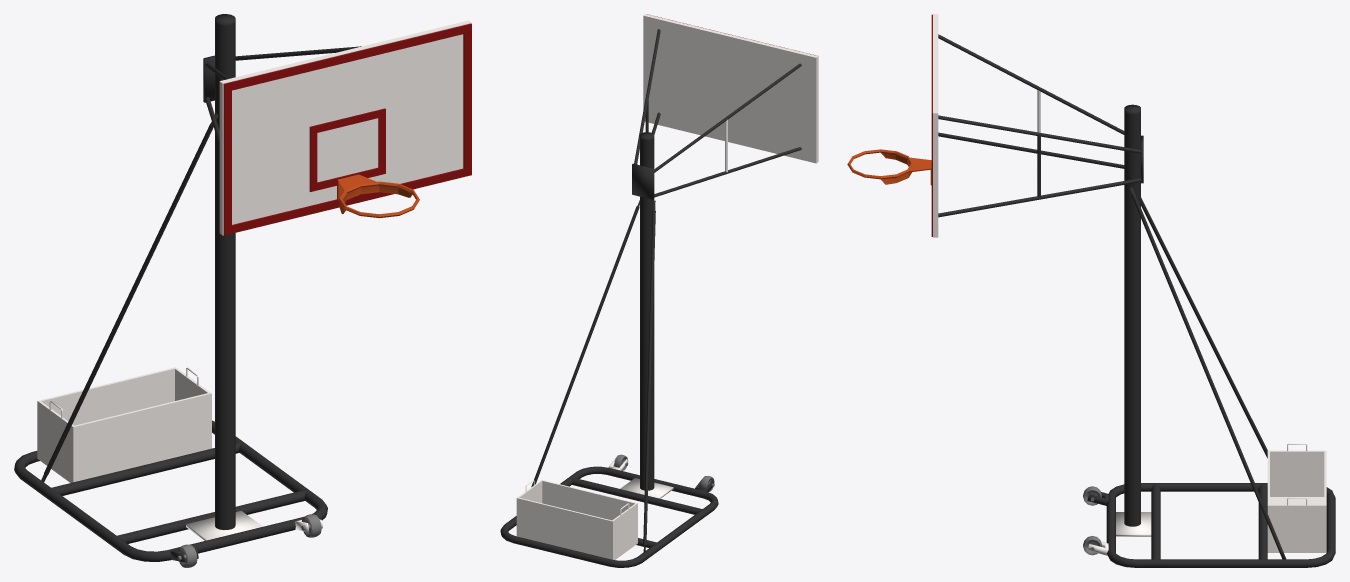
The model's file is basketball_hoop.fbx.
The picture shows the model from 3 angles, left to right: view 1: azimuth 30°, elevation 25°; view 2: azimuth 150°, elevation 25°; view 3: azimuth 270°, elevation 25°; orthographic projection. The views are drawn at different scales.
Parts seen in each view (by area): view 1: BasketballHoop; view 2: BasketballHoop; view 3: BasketballHoop.
Part boxes in pixels (box(x1,y1,x2,y2)): BasketballHoop: box(14, 14, 471, 567); BasketballHoop: box(500, 14, 818, 567); BasketballHoop: box(847, 14, 1335, 567).
Bounding box in the file's own units: 182 × 399 × 379.
